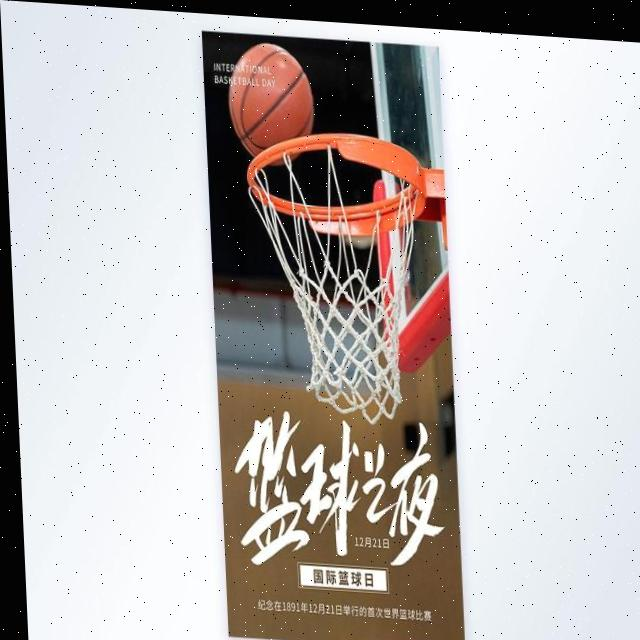rebound_hit: (229, 43, 319, 168)
